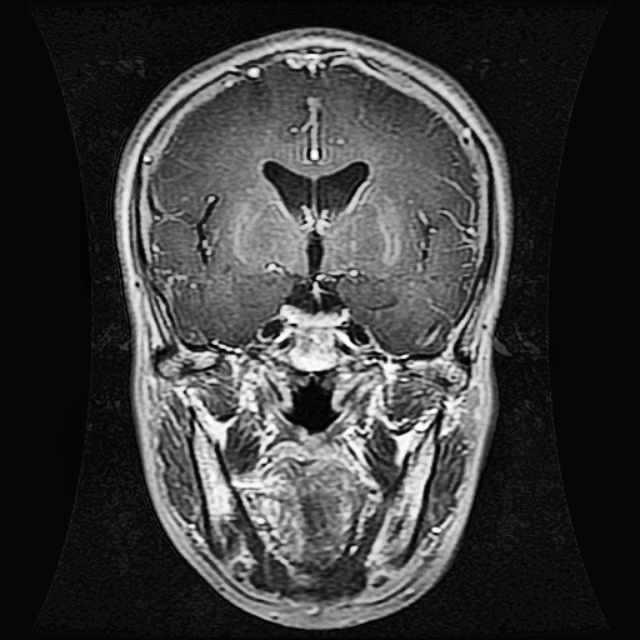Meningioma: (190, 190, 222, 262)
